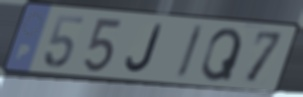5: (81, 16, 127, 74), (42, 13, 86, 71)
7: (244, 29, 285, 86)
I: (172, 22, 207, 82)
J: (124, 22, 165, 75)
Q: (199, 26, 245, 84)
